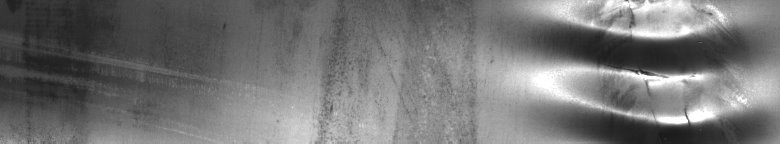ke: (552, 4, 747, 132)
